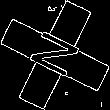N_SE: (24, 26, 86, 84)
